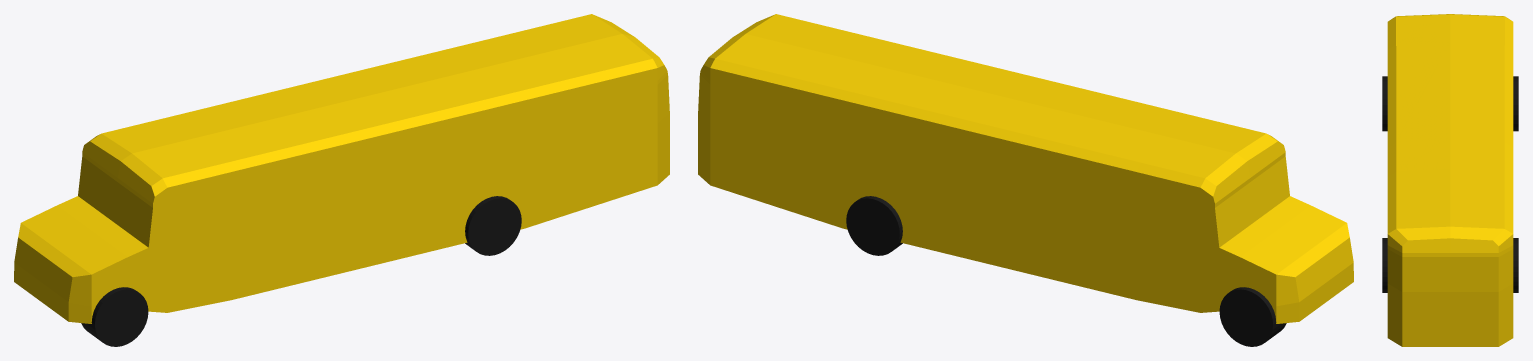
Rendered from Art.glb.
3 views of the same model, side by side, from view 1: azimuth 30°, elevation 25°; view 2: azimuth 150°, elevation 25°; view 3: azimuth 270°, elevation 25° (orthographic). The views are drawn at different scales.
Parts seen in each view (by area): view 1: Bus; view 2: Bus; view 3: Bus.
Part boxes in pixels (x1,y1,x2,y2): Bus: [14, 14, 669, 346]; Bus: [698, 14, 1353, 346]; Bus: [1382, 14, 1518, 346].
Size of the model in its own units: 12.76 by 3.1 by 2.83.
1 material, 1 textured.
